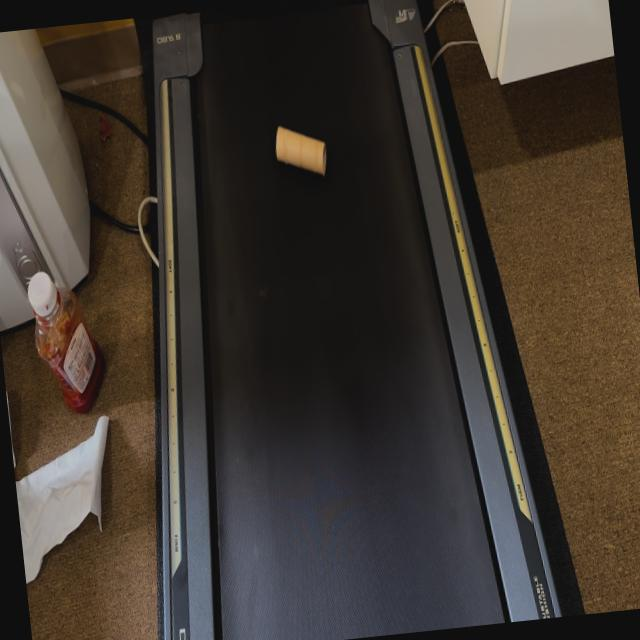Recycle: (270, 119, 330, 182)
